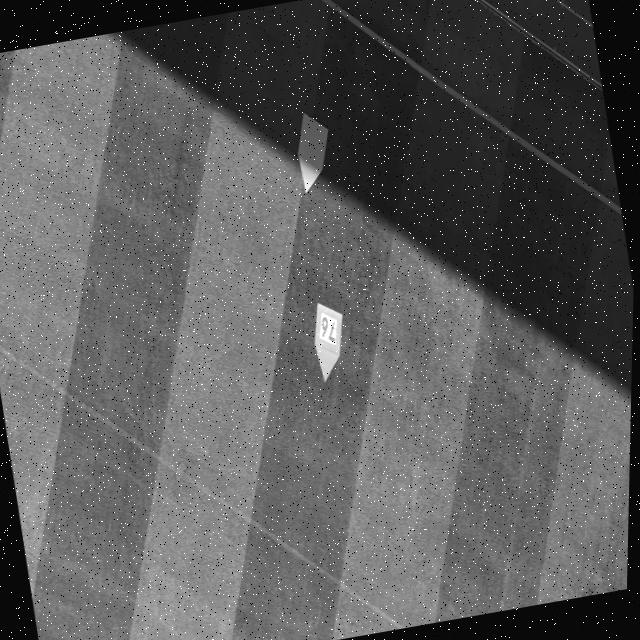board: (297, 110, 328, 194), (314, 300, 343, 383)
